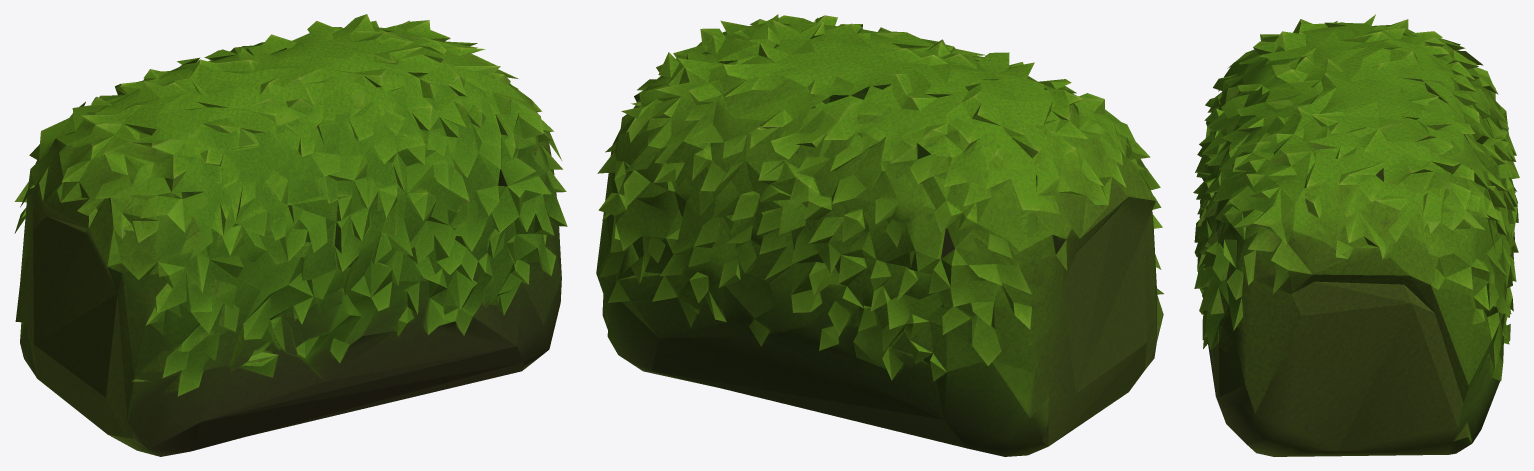
The model's file is hedge_end.glb.
3 renders of one model, left to right at view 1: azimuth 30°, elevation 25°; view 2: azimuth 150°, elevation 25°; view 3: azimuth 270°, elevation 25°, orthographic. The views are drawn at different scales.
Bounding box in the file's own units: 1.9 × 1.25 × 1.26.
1 material, 1 textured.
